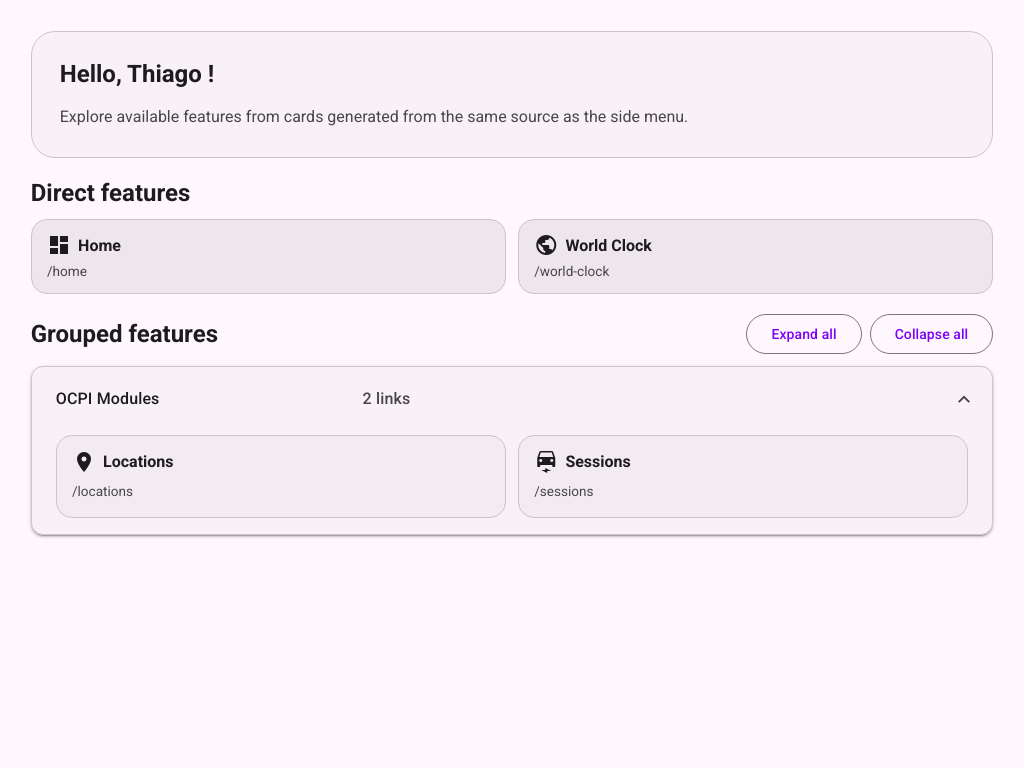
Scenario: HomePageComponent › shows an action error if route navigation is rejected
The width and height of the screenshot is (1024, 768).
What coordinates should you click on to do the following:
click the button with test id "home-feature-card" showing "Home /home"
I would click on:
 (100, 245)
Its box is [31,219,506,294].
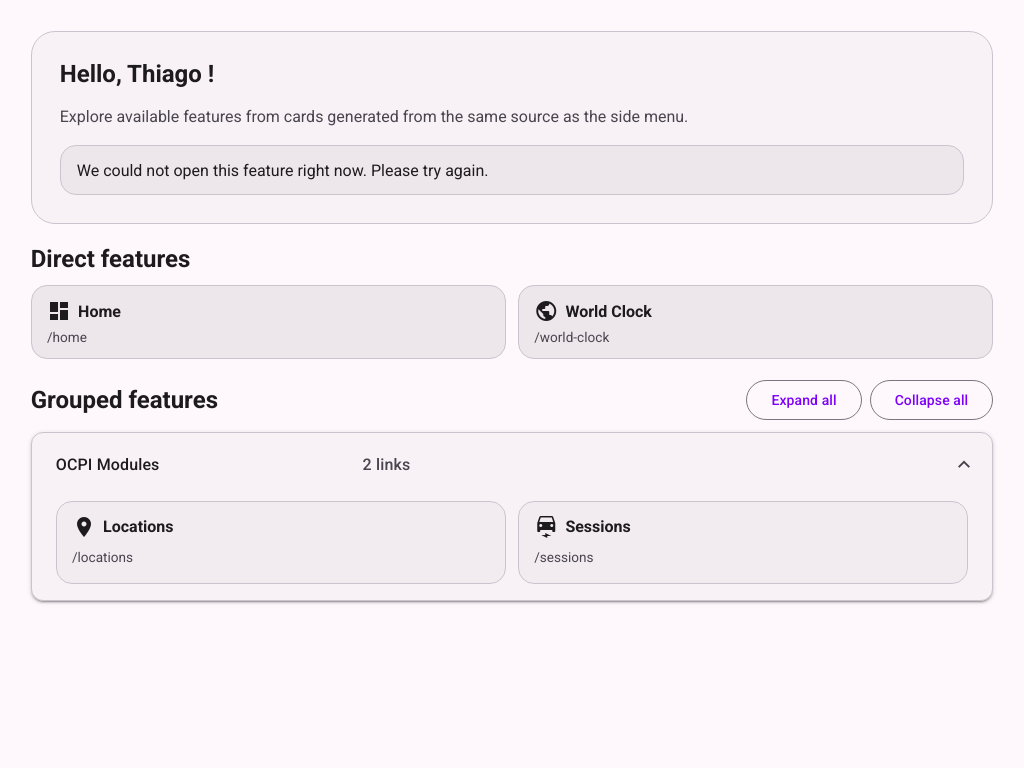
expect the text "We could not open this feature right now. Please try again." is shown: met, box [60,145,964,195]
